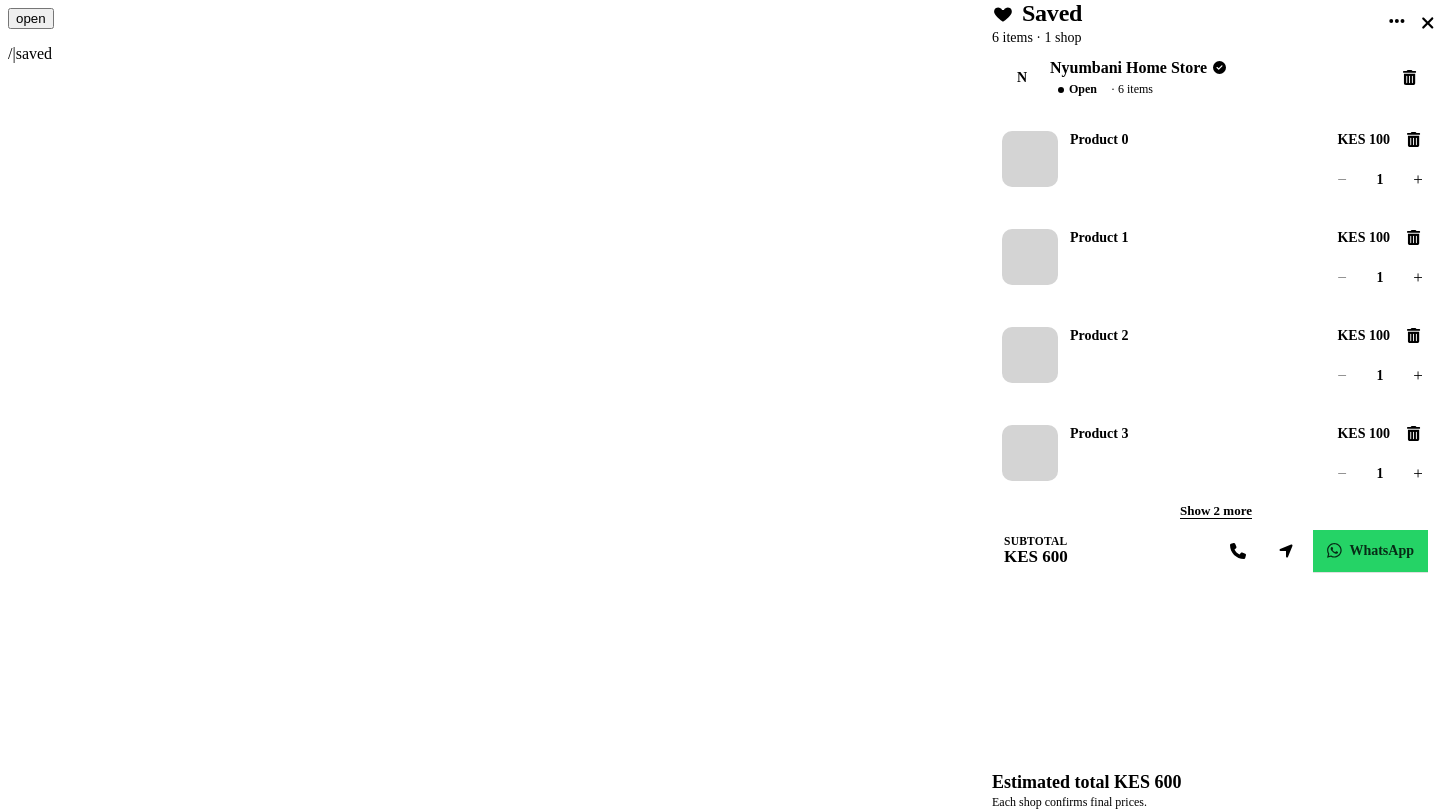
Test case: SavedDrawer › shows the first four lines of a shop, then Show more
Expected: the number of list items with test id "saved-line" is 4, [992,110,1439,208]; [992,208,1439,306]; [992,306,1439,404]; [992,404,1439,502]
Click the button "Show 2 more" at (1216, 511), box [992,502,1439,520]
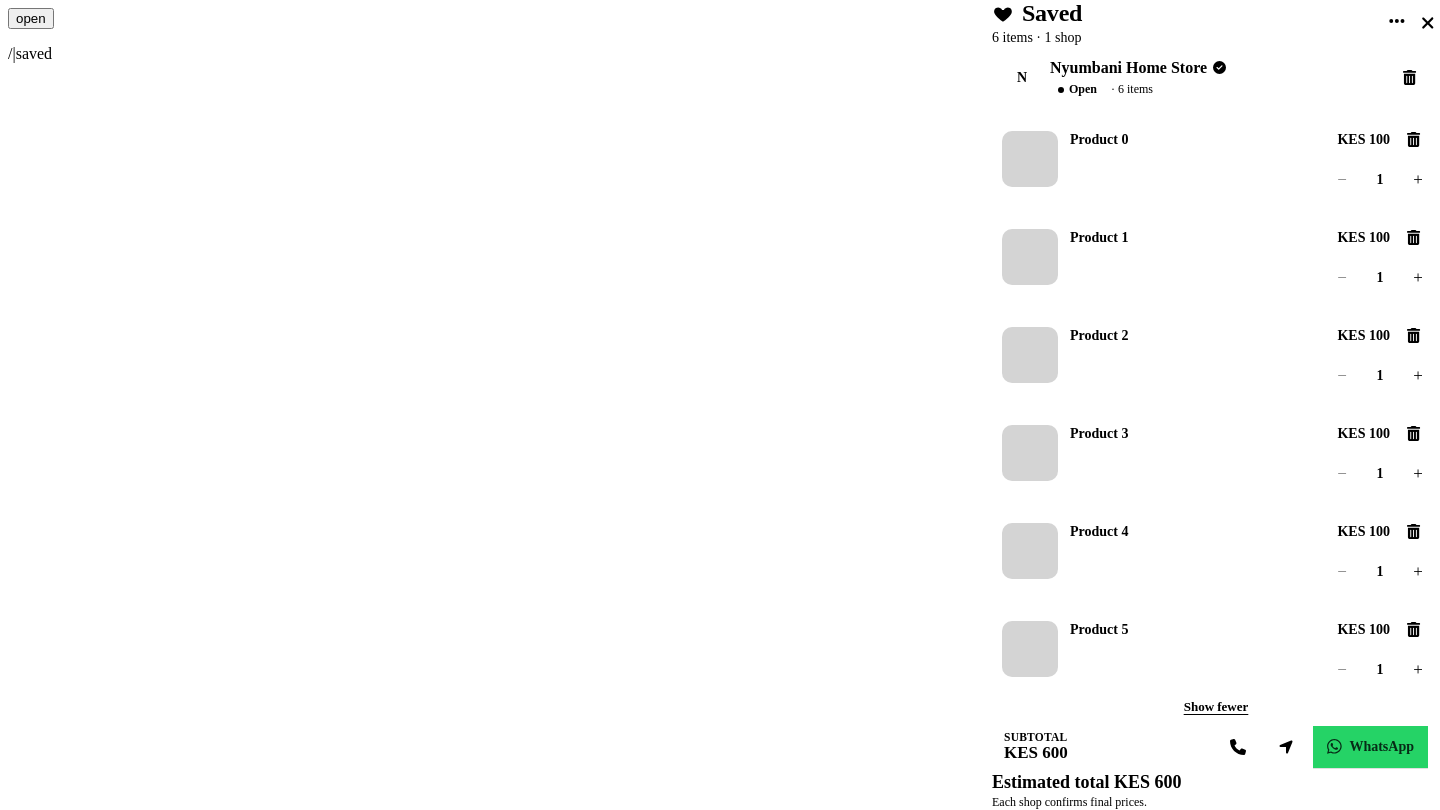
Result: the number of list items with test id "saved-line" is 6 at [992,110,1439,208]; [992,208,1439,306]; [992,306,1439,404]; [992,404,1439,502]; [992,502,1439,600]; [992,600,1439,698]
Result: the button "Show fewer" is shown at [992,698,1439,716]
